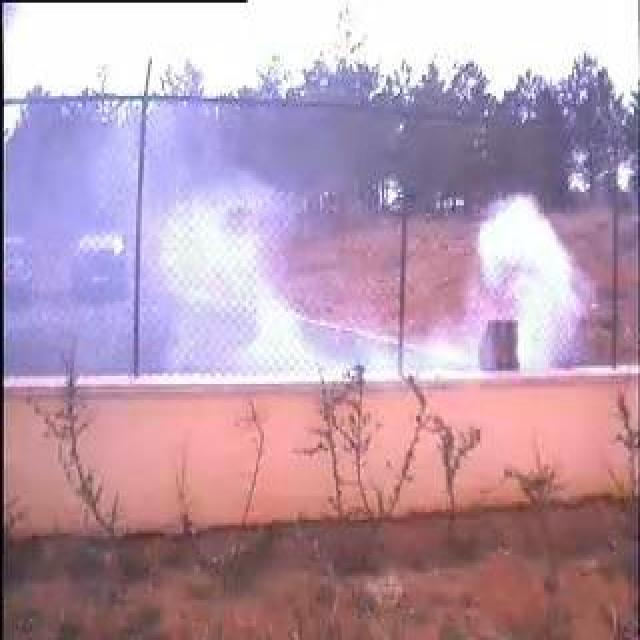Smoke: (103, 133, 575, 368)
